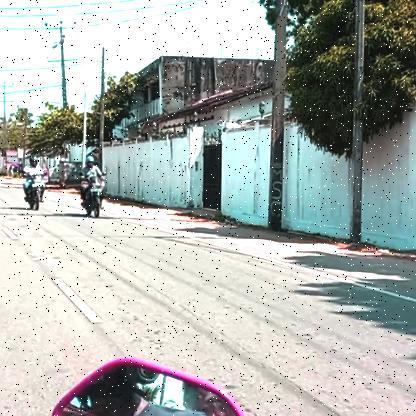motorcycle: (79, 175, 107, 220), (21, 174, 50, 212)
